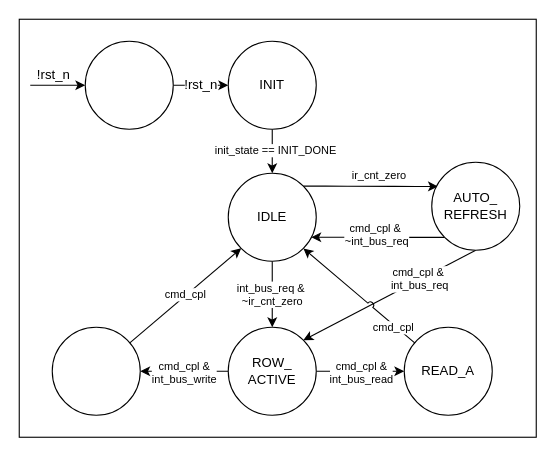
Image size: 556x457. Some labels were removed from this diagram. Here are the shapes that lost their labels. From the top down, the box of each, then its label:
(84, 40, 173, 129): RESET
(51, 326, 140, 415): WRITE_A
